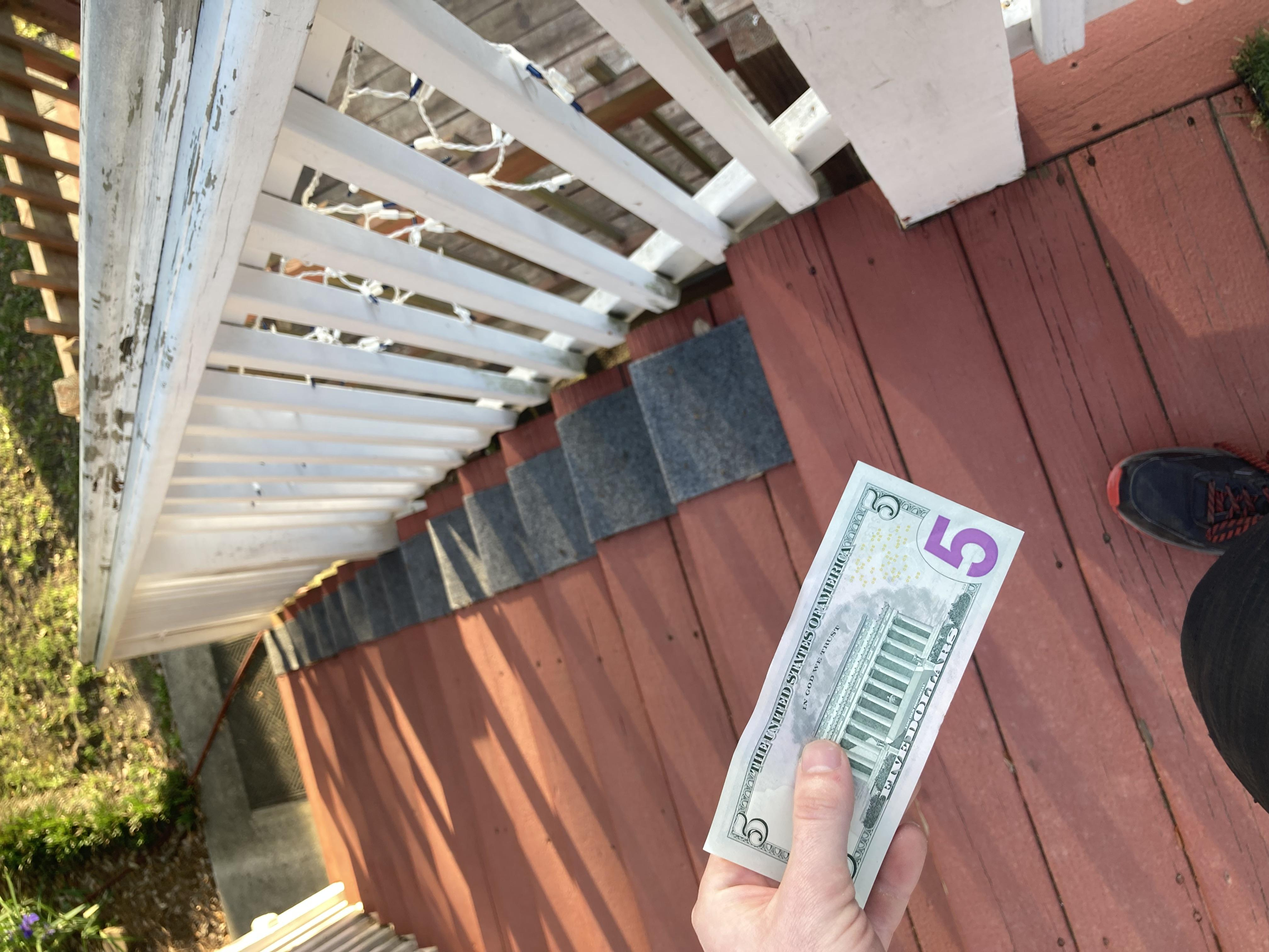five-back: (50, 527, 657, 767)
